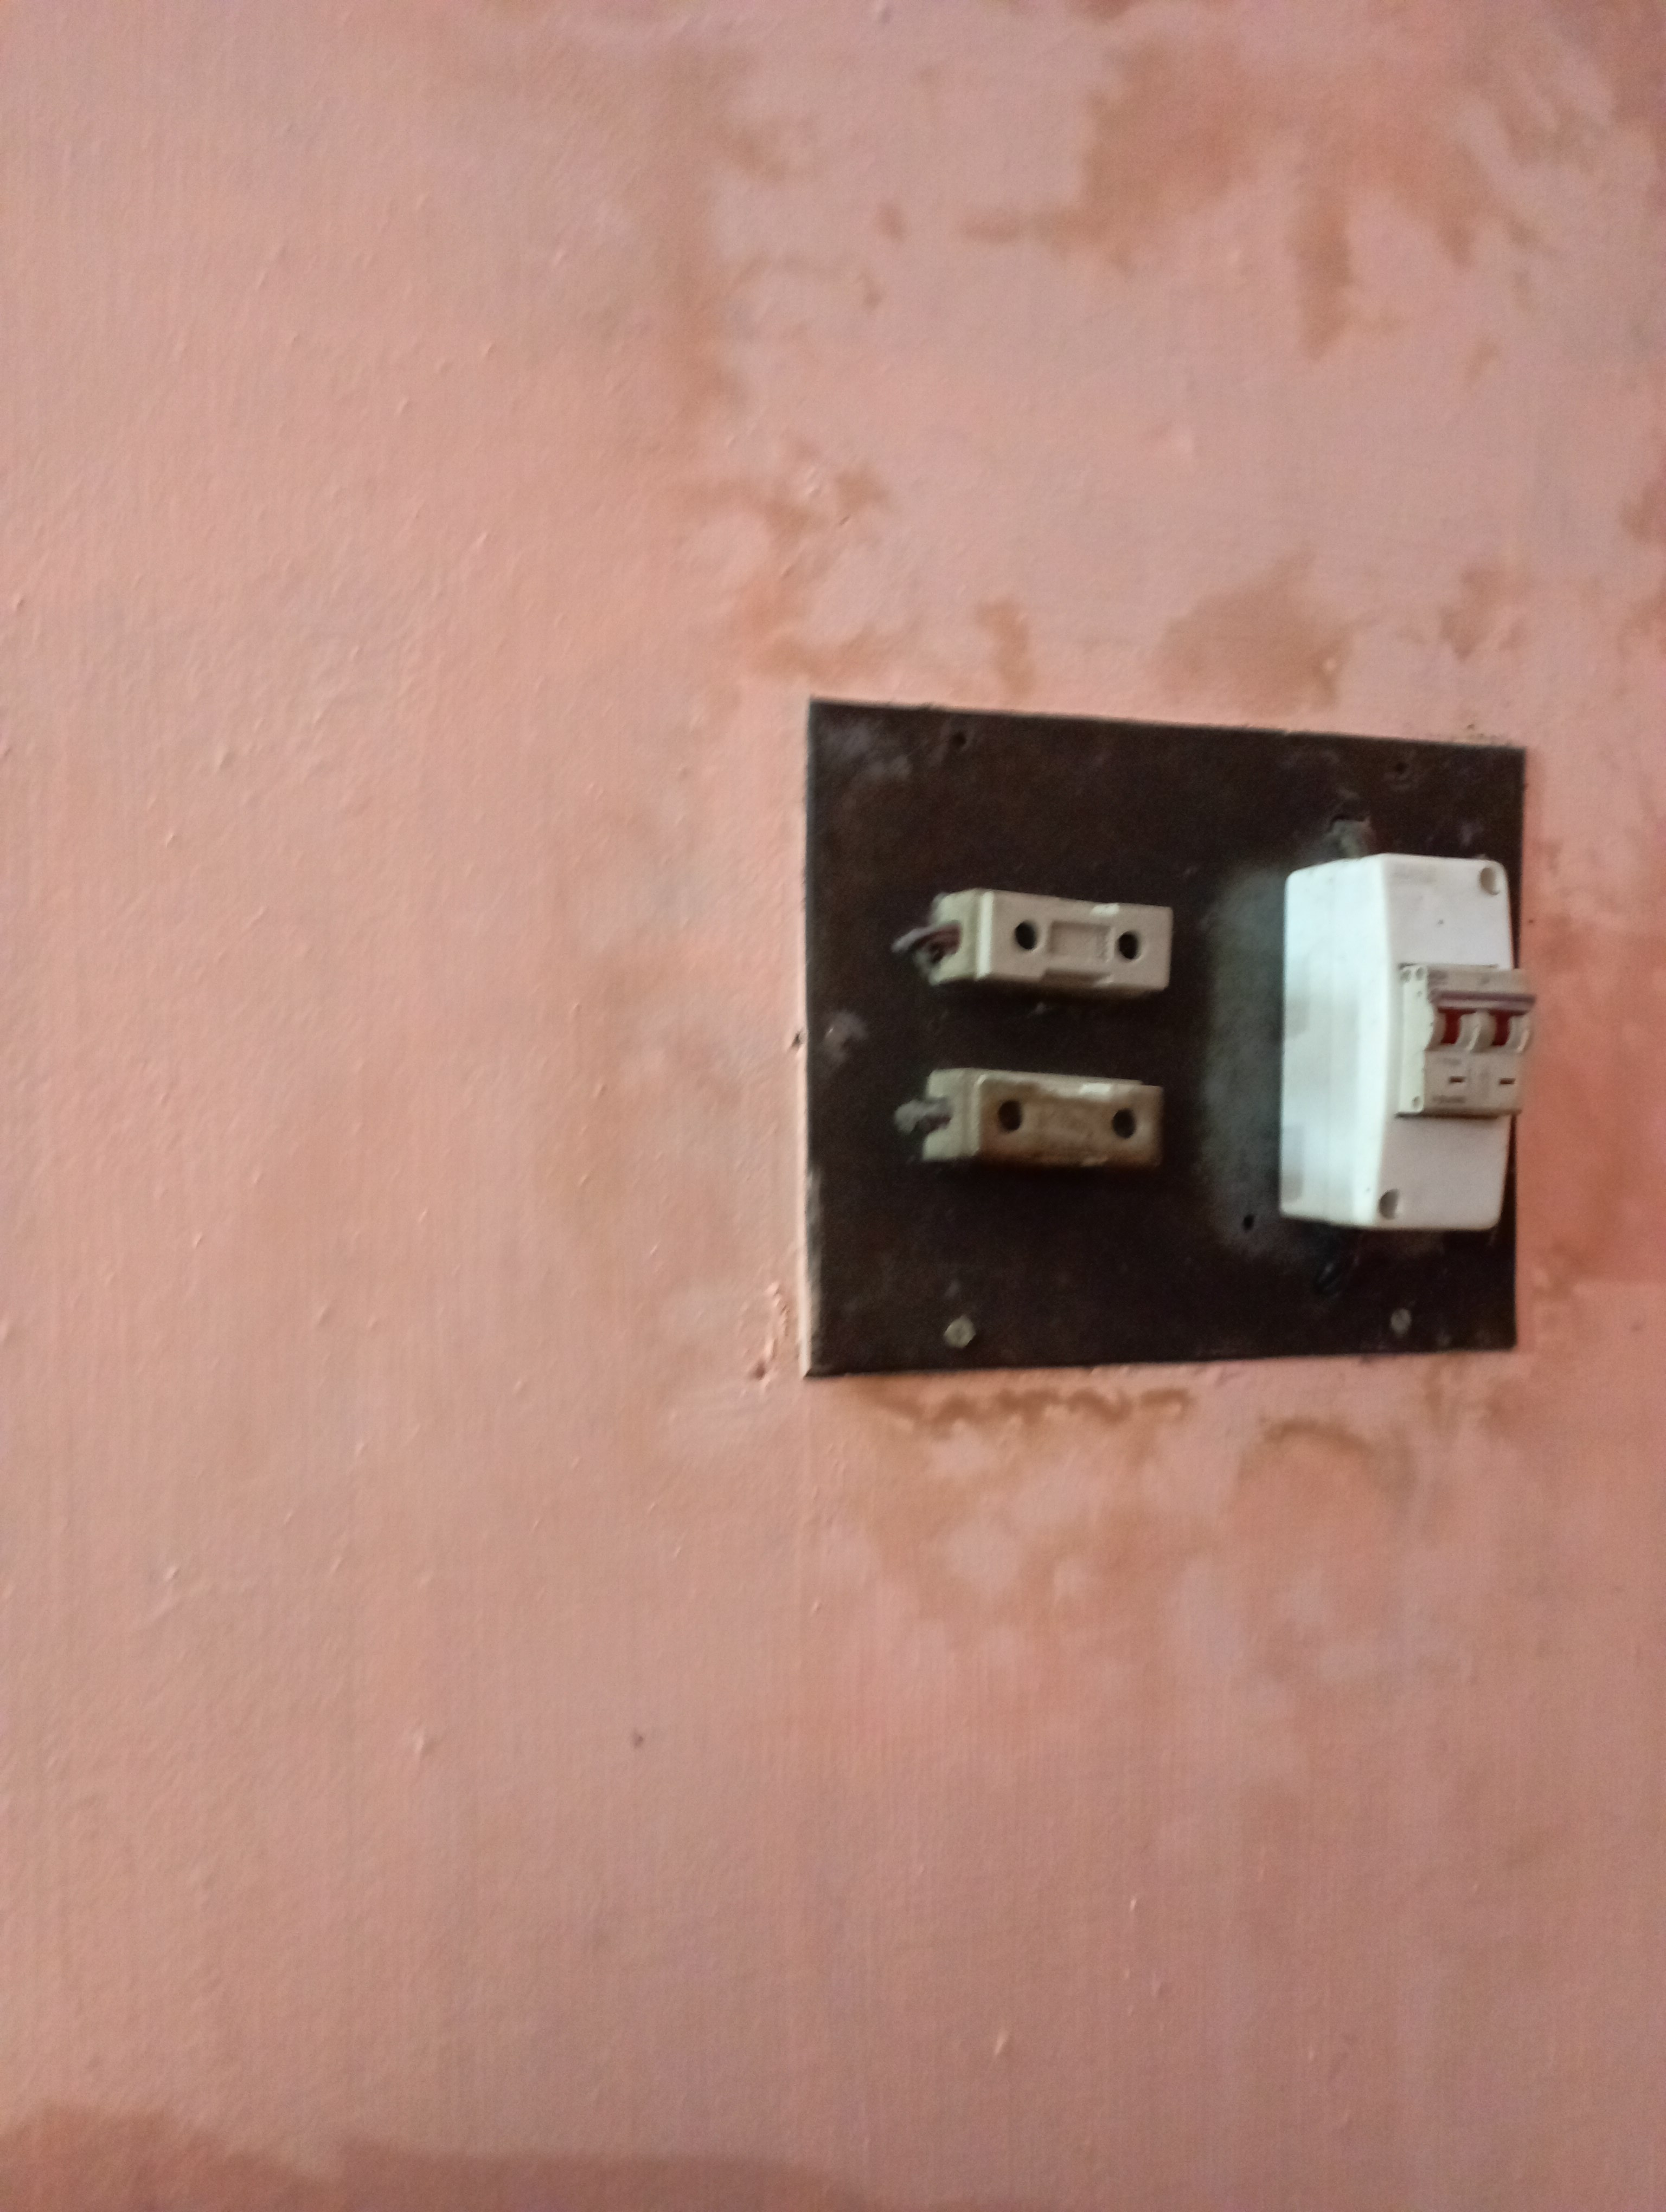ciruit_breaker: (1256, 859, 1561, 1243)
fuse: (908, 890, 1181, 1012), (908, 1061, 1190, 1172)
